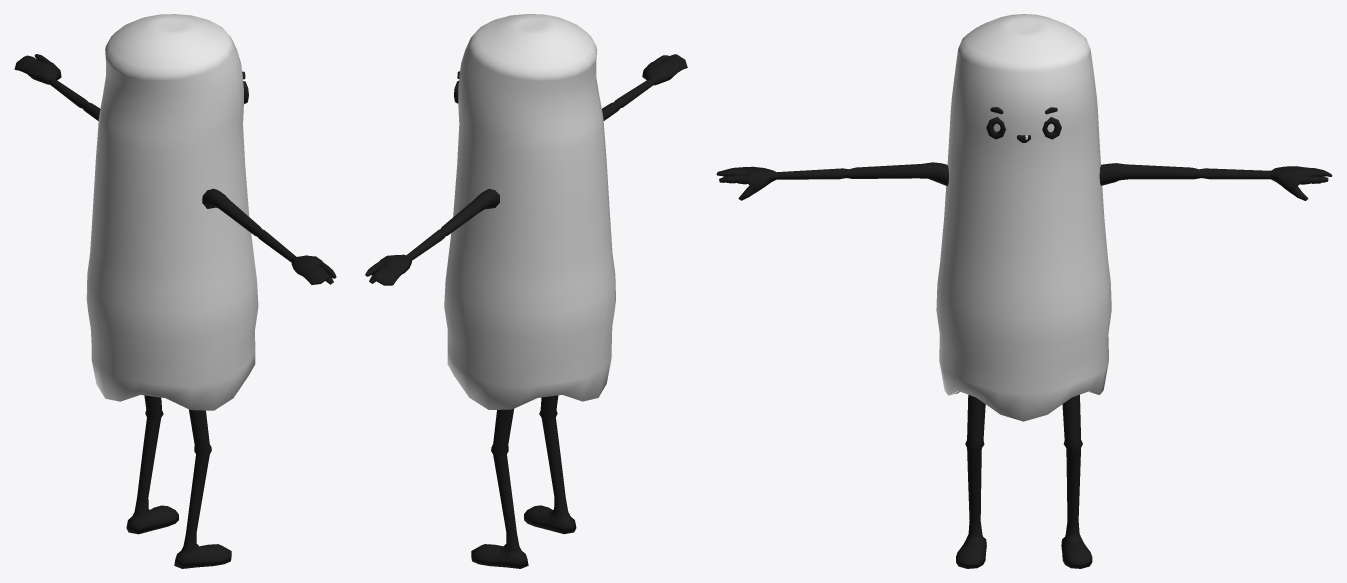
3 renders of one model, left to right at view 1: azimuth 30°, elevation 25°; view 2: azimuth 150°, elevation 25°; view 3: azimuth 270°, elevation 25°, orthographic.
Visible parts, largest first — view 1: mesh_char_137; view 2: mesh_char_137; view 3: mesh_char_137.
Part boxes in pixels (x1,y1,x2,y2): mesh_char_137: [14, 14, 336, 568]; mesh_char_137: [365, 14, 687, 568]; mesh_char_137: [716, 14, 1332, 568].
Bounding box in the file's own units: 1.31 × 4.37 × 4.63.
Materials: 1 (1 with a texture image).
